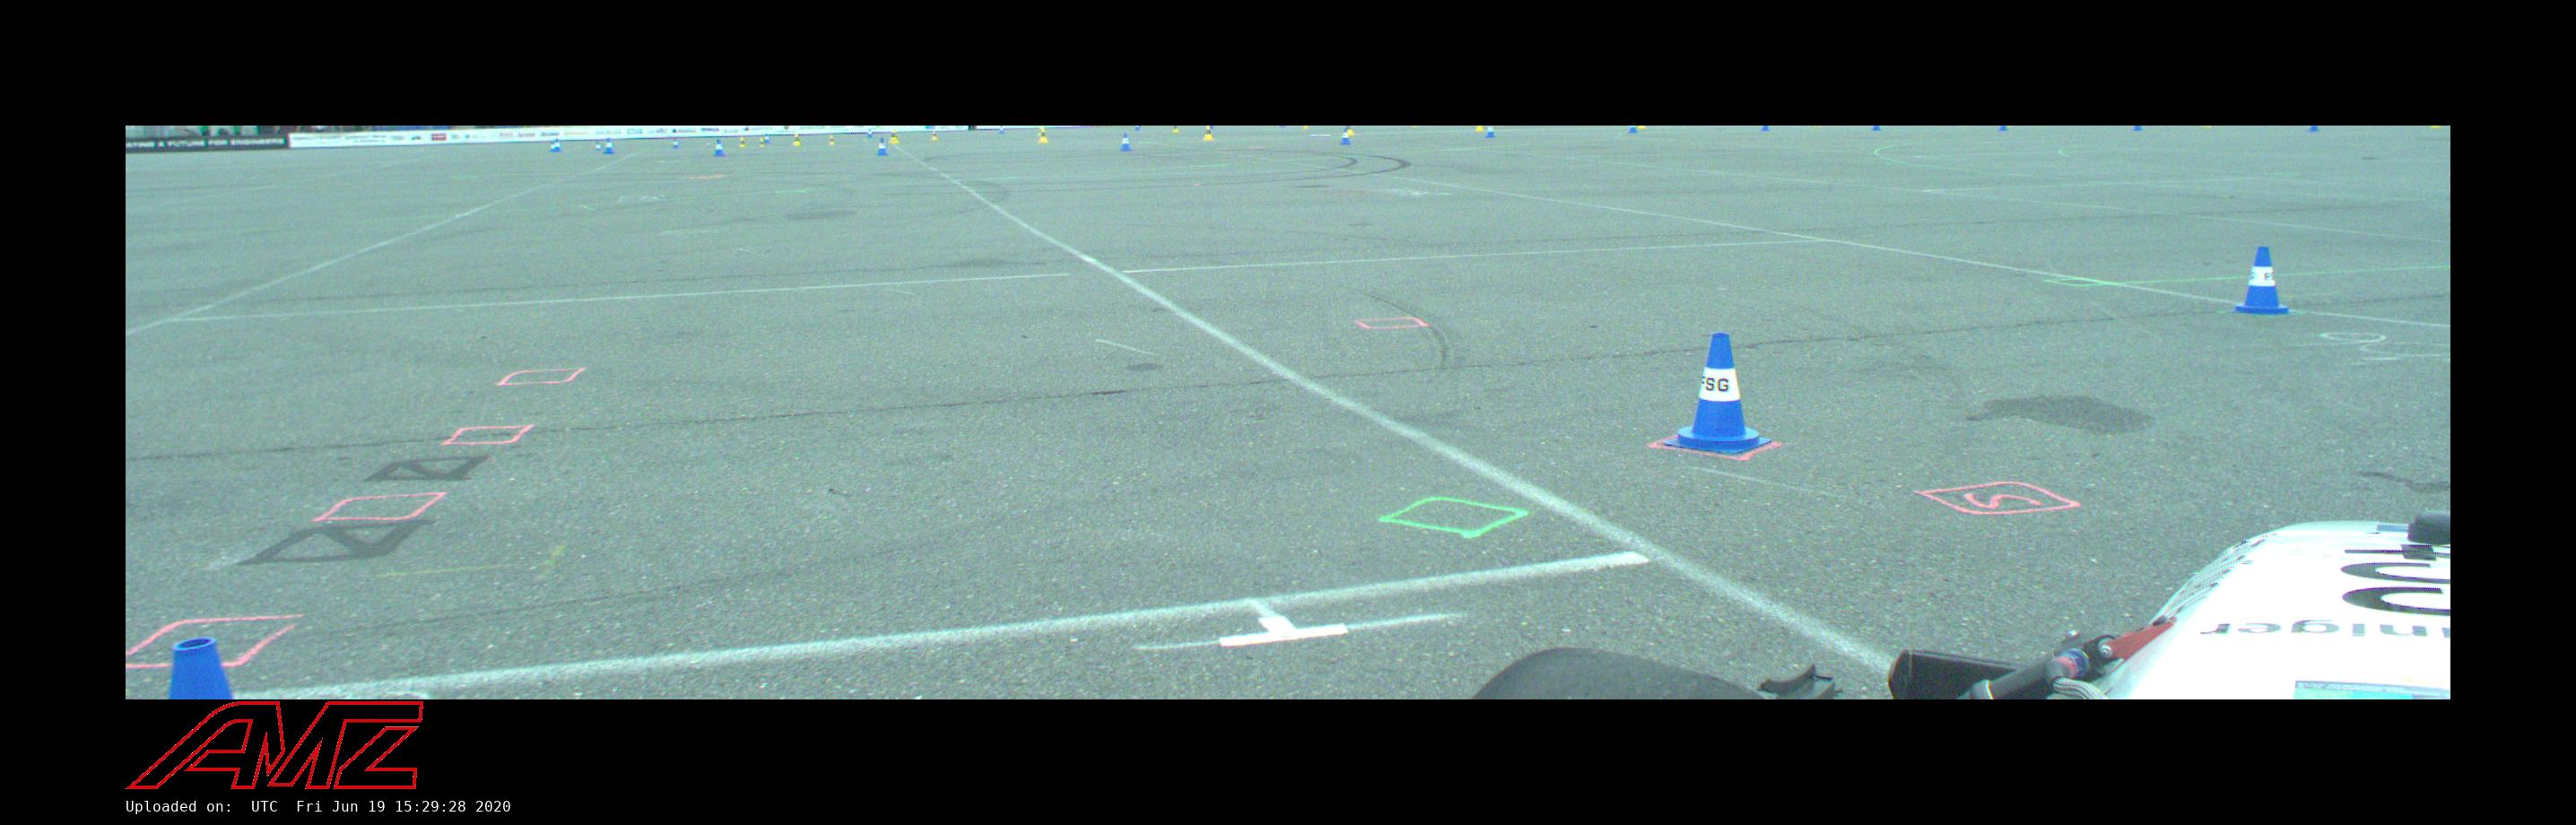blue_cone: (1663, 333, 1771, 455), (2229, 247, 2296, 316), (875, 137, 890, 156), (713, 139, 727, 157), (1119, 133, 1132, 152), (1340, 129, 1352, 145), (604, 139, 615, 154), (1484, 126, 1496, 138), (556, 139, 562, 152), (1629, 126, 1638, 134), (595, 142, 602, 151), (551, 142, 557, 152), (673, 139, 679, 149), (867, 128, 874, 138), (764, 134, 770, 143), (999, 126, 1005, 134), (1134, 126, 1141, 131)
yellow_cone: (1203, 126, 1214, 141), (889, 129, 901, 143), (1040, 129, 1049, 143), (793, 133, 801, 146), (738, 136, 747, 148), (1347, 126, 1355, 135), (931, 132, 939, 141), (1171, 126, 1180, 133), (829, 135, 835, 145), (759, 137, 765, 147)
